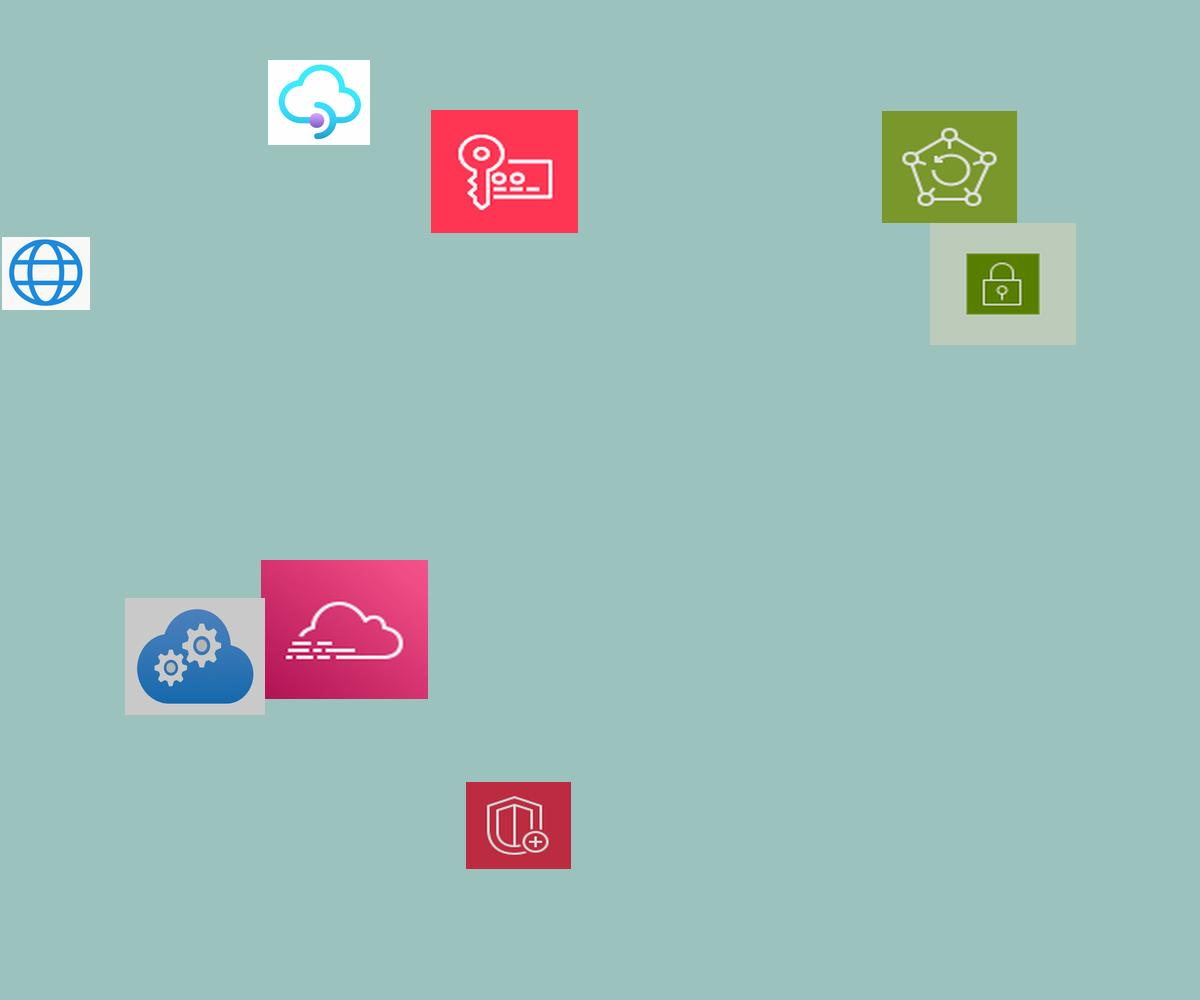AWS-Backup: (882, 111, 1017, 223)
AWS-CloudTrail: (261, 560, 428, 699)
AWS-Key-Management-Service: (431, 110, 578, 233)
AWS-Public-subnet: (930, 223, 1076, 345)
AWS-Shield: (466, 782, 571, 869)
Azure_api_gateway: (268, 60, 370, 145)
Azure_cloud_services: (125, 598, 265, 715)
Azure_http: (2, 237, 90, 310)
